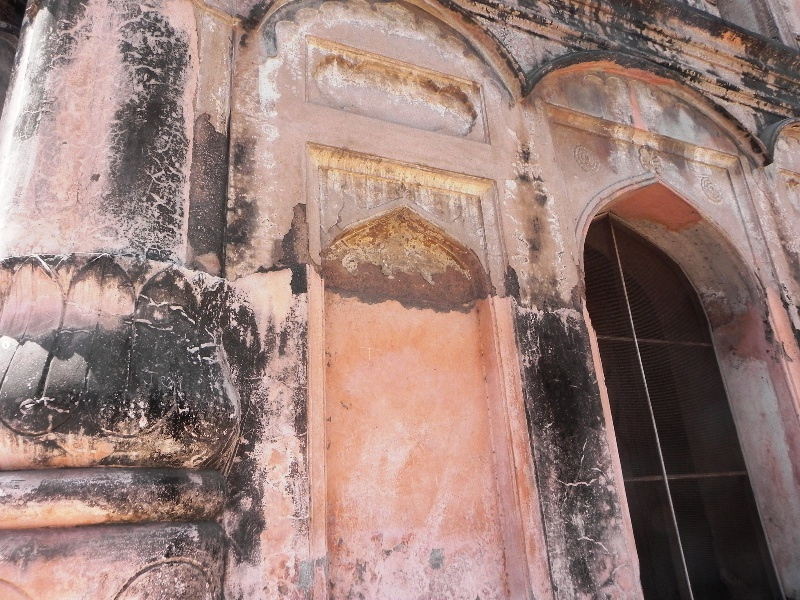Spalling: (320, 249, 495, 315), (283, 203, 319, 265)
